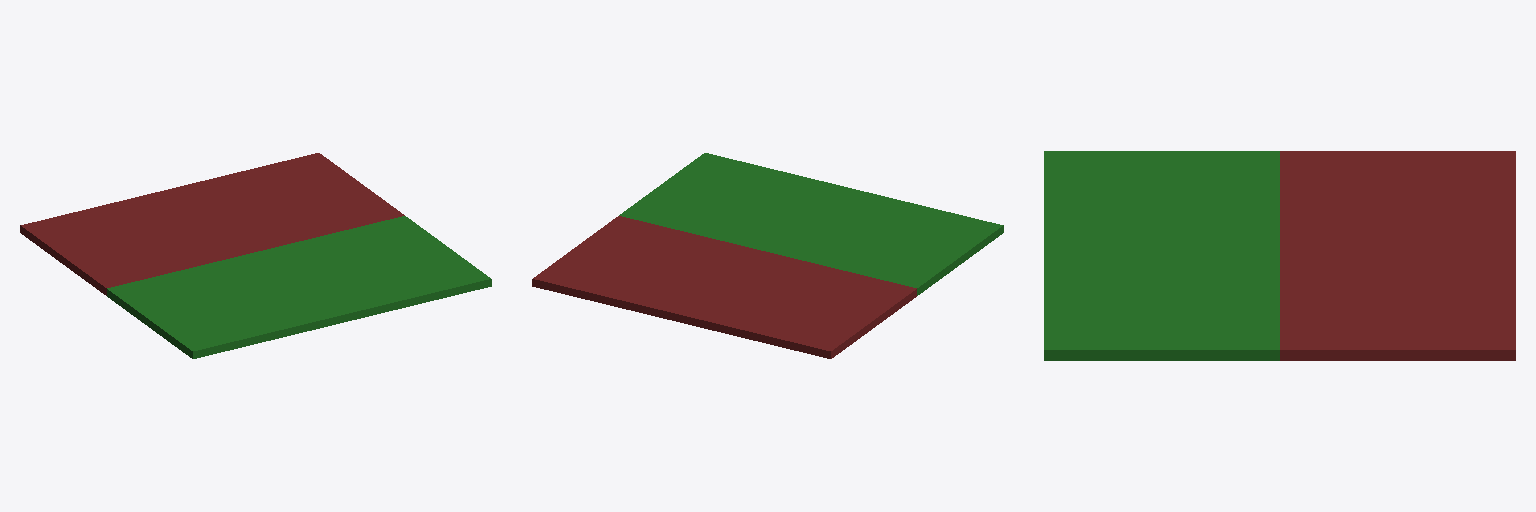
The robot description file, URDF, robot "robot":
<?xml version="1.0" encoding="utf-8"?>
<!-- =================================================================================== -->
<!-- |    This document was autogenerated by xacro from plate_color.urdf.xacro         | -->
<!-- |    EDITING THIS FILE BY HAND IS NOT RECOMMENDED                                 | -->
<!-- =================================================================================== -->
<robot>
  <material name="front_material">
    <color rgba="0.5 0.2 0.2 1.0"/>
  </material>
  <material name="rear_material">
    <color rgba="0.2 0.5 0.2 1.0"/>
  </material>
  <link name="base"/>
  <link name="front">
    <visual>
      <origin xyz="0 0.1 0.005"/>
      <geometry>
        <box size="0.4 0.2 0.01"/>
      </geometry>
      <material name="front_material"/>
    </visual>
    <collision>
      <origin xyz="0 0.1 0.005"/>
      <geometry>
        <box size="0.4 0.2 0.01"/>
      </geometry>
    </collision>
    <inertial>
      <density value="1000"/>
    </inertial>
  </link>
  <link name="rear">
    <visual>
      <origin xyz="0 -0.1 0.005"/>
      <geometry>
        <box size="0.4 0.2 0.01"/>
      </geometry>
      <material name="rear_material"/>
    </visual>
    <collision>
      <origin xyz="0 -0.1 0.005"/>
      <geometry>
        <box size="0.4 0.2 0.01"/>
      </geometry>
    </collision>
    <inertial>
      <density value="1000"/>
    </inertial>
  </link>
  <joint name="front_joint" type="fixed">
    <parent link="base"/>
    <child link="front"/>
  </joint>
  <joint name="rear_joint" type="fixed">
    <parent link="base"/>
    <child link="rear"/>
  </joint>
</robot>

--- Render facts (derived) ---
3 views of the same robot in one strip: view 1: azimuth 30°, elevation 25°; view 2: azimuth 150°, elevation 25°; view 3: azimuth 270°, elevation 25° (orthographic).
Robot: robot — 3 links, 2 joints (2 fixed); root link base; default pose: all joints at 0.
Visible links, largest first — view 1: rear, front; view 2: front, rear; view 3: front, rear.
Link boxes in pixels (bbox=[...]): rear: bbox=[107, 216, 491, 358]; front: bbox=[20, 153, 404, 295]; front: bbox=[532, 216, 916, 358]; rear: bbox=[619, 153, 1003, 295]; front: bbox=[1280, 151, 1515, 360]; rear: bbox=[1044, 151, 1279, 360].
Size in the robot's own frame: 0.4 by 0.4 by 0.01 metres.
Geometry: primitives only (box / cylinder / sphere), no mesh files.